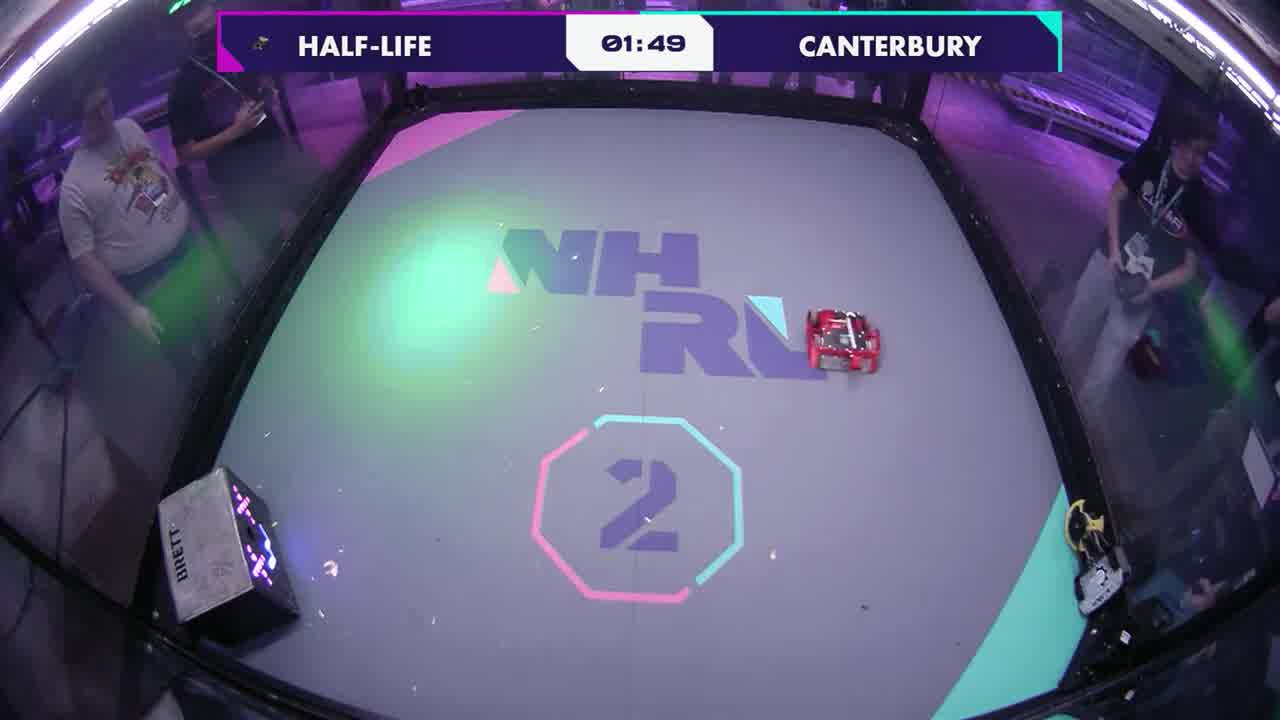combatbot: (1066, 500, 1127, 618), (804, 307, 883, 376)
housebot: (154, 466, 301, 640)
